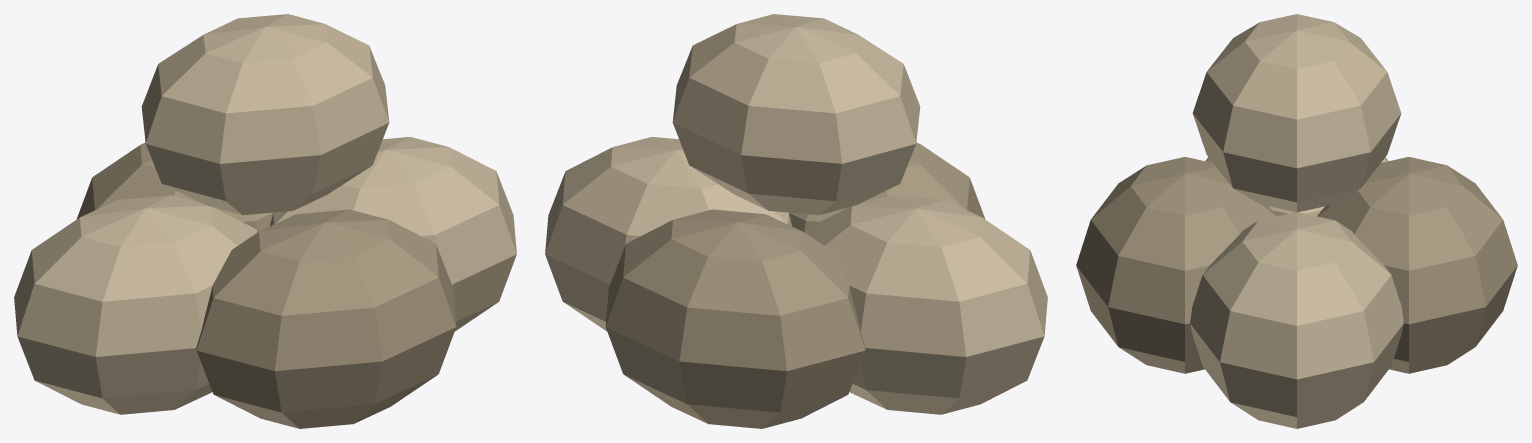
File: P_SackPile.glb
3 renders of one model, left to right at view 1: azimuth 30°, elevation 25°; view 2: azimuth 150°, elevation 25°; view 3: azimuth 270°, elevation 25°, orthographic. The views are drawn at different scales.
Parts seen in each view (by area): view 1: P_SackPile; view 2: P_SackPile; view 3: P_SackPile.
Boxes of the visible parts, x1,y1,x2,y2 form: P_SackPile: (14, 14, 516, 428); P_SackPile: (545, 14, 1047, 428); P_SackPile: (1076, 14, 1517, 428).
Bounding box in the file's own units: 1.16 × 0.772 × 0.948.
